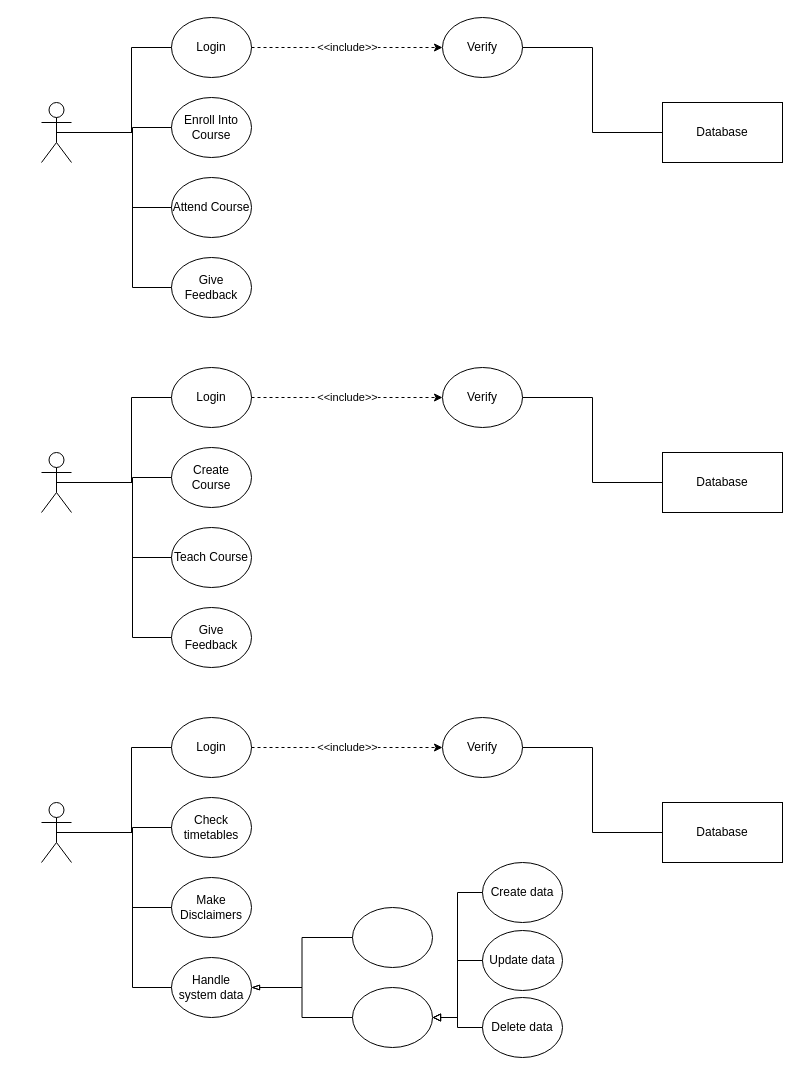
The diagram is 800 pixels wide and 1075 high, and some of its shapes have lost their labels. Each missing label, with the box of its shape:
Academic staff: (40, 802, 72, 862)
Edit system data: (352, 986, 432, 1048)
Instructor: (40, 452, 72, 512)
Student: (40, 102, 72, 162)
View system data: (352, 906, 432, 968)
